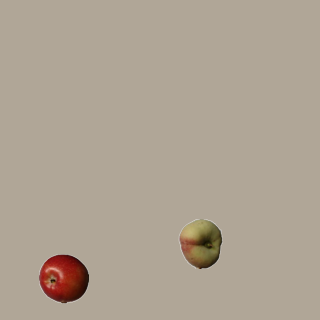Apple Braeburn: (38, 253, 88, 303)
Peach Flat: (175, 218, 225, 268)
